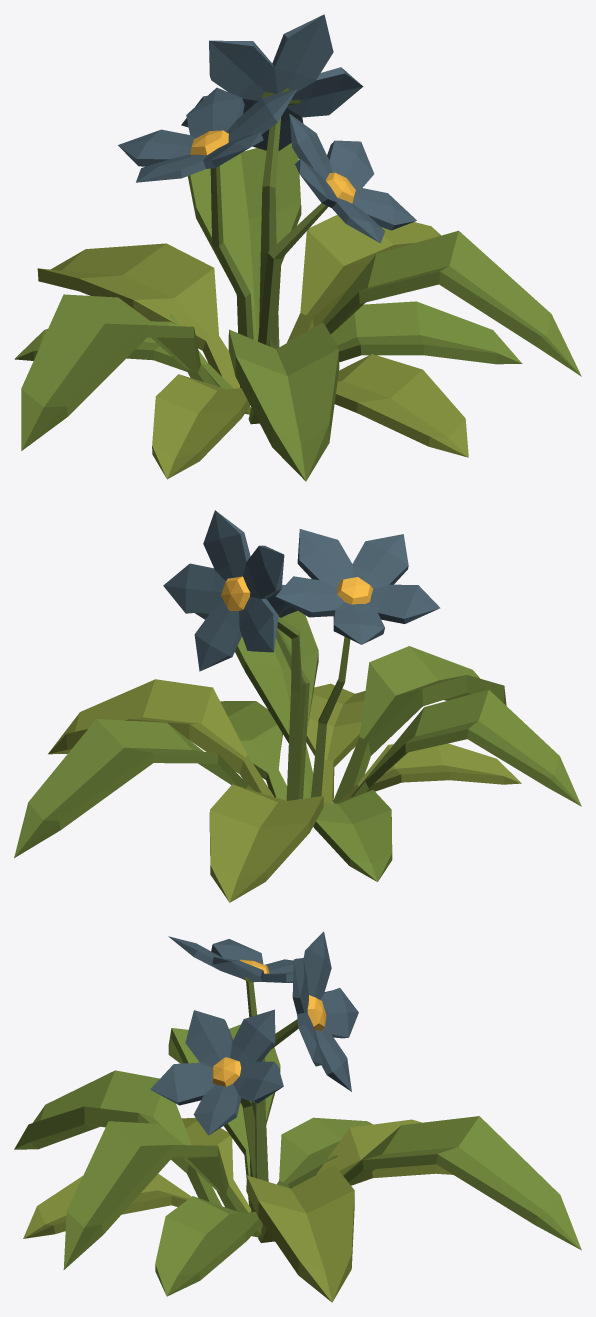
Rendered from Flower_2.fbx.
3 views of the same model, one above another, from view 1: azimuth 30°, elevation 25°; view 2: azimuth 150°, elevation 25°; view 3: azimuth 270°, elevation 25° (orthographic). The views are drawn at different scales.
Parts seen in each view (by area): view 1: Flower_2; view 2: Flower_2; view 3: Flower_2.
Boxes of the visible parts, bbox=[...] form: Flower_2: bbox=[14, 14, 581, 481]; Flower_2: bbox=[14, 510, 581, 902]; Flower_2: bbox=[14, 931, 581, 1302].
Bounding box in the file's own units: 69.27 × 42.94 × 72.83.
